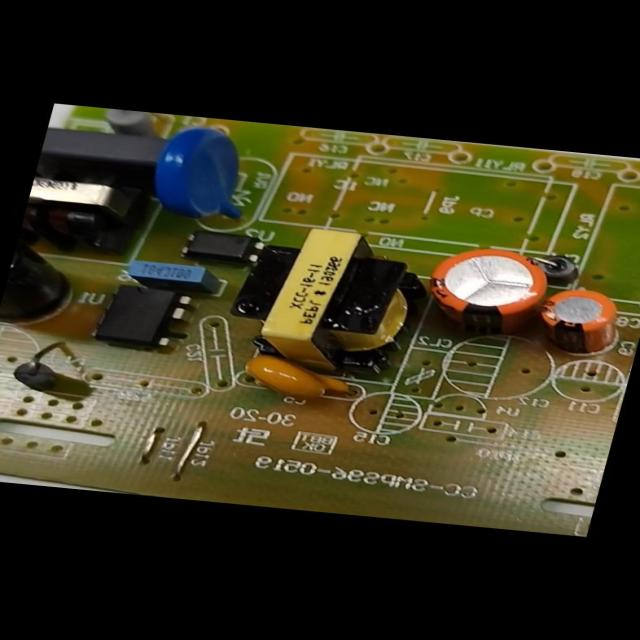Cap1: (422, 246, 550, 331)
Cap2: (534, 286, 629, 353)
Cap3: (0, 229, 85, 324)
MOSFET: (92, 284, 195, 350)
Mov: (146, 124, 260, 218)
Resistor: (101, 108, 165, 137)
Transformer: (226, 224, 434, 375), (20, 164, 139, 239)
